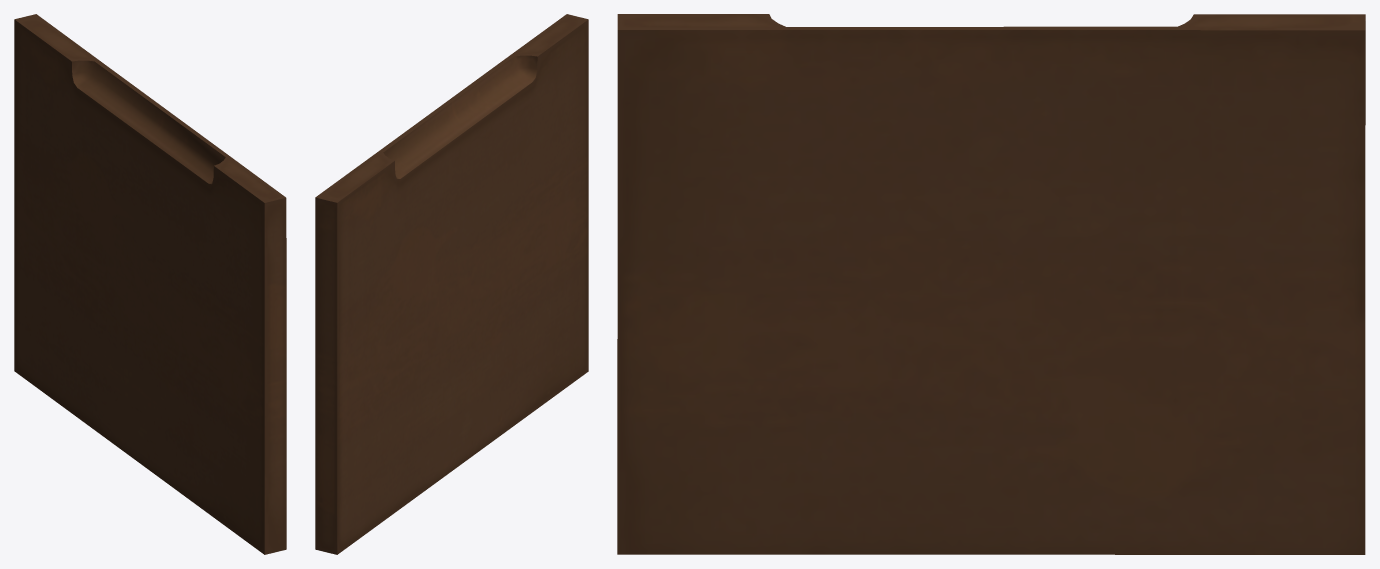
File: SM_Cabinets_A2_Door1.fbx
The picture shows the model from 3 angles, left to right: view 1: azimuth 30°, elevation 25°; view 2: azimuth 150°, elevation 25°; view 3: azimuth 270°, elevation 25°; orthographic projection. The views are drawn at different scales.
Parts seen in each view (by area): view 1: SM_Cabinets_A2_Door1; view 2: SM_Cabinets_A2_Door1; view 3: SM_Cabinets_A2_Door1.
Boxes of the visible parts, x1,y1,x2,y2 form: SM_Cabinets_A2_Door1: [14, 14, 286, 554]; SM_Cabinets_A2_Door1: [315, 14, 588, 554]; SM_Cabinets_A2_Door1: [617, 14, 1365, 554].
Size of the model in its own units: 2.48 by 47.99 by 37.14.
Materials: 1 (1 with a texture image).
